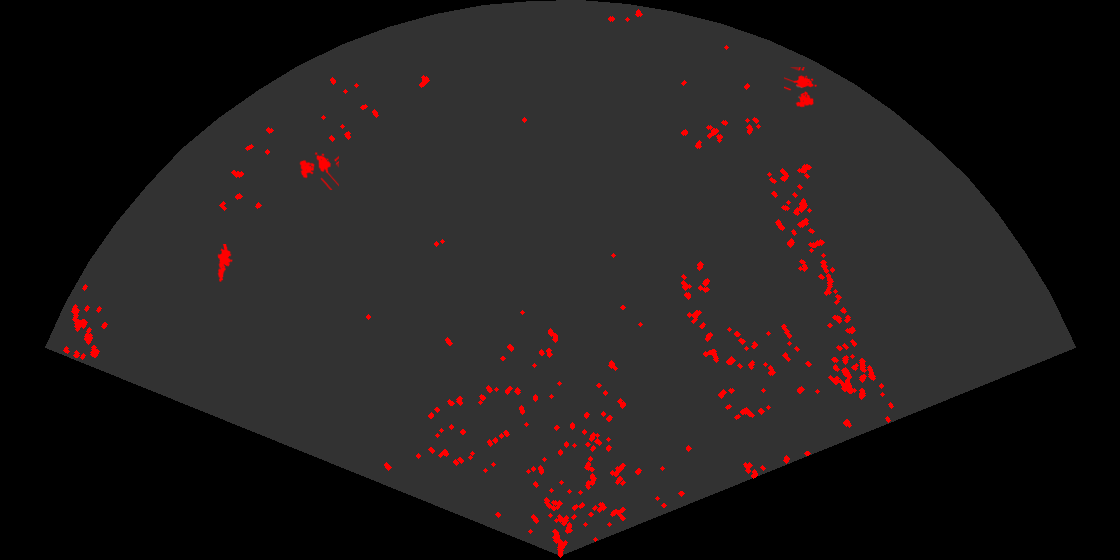cage: (298, 150, 339, 190), (784, 67, 819, 109)
frogman: (216, 244, 234, 282)
